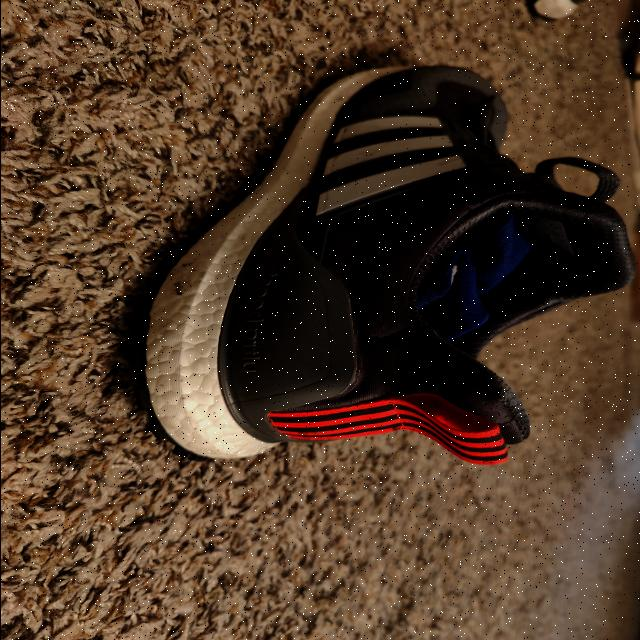black shoes: (138, 66, 588, 463)
